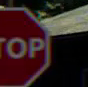Stop: (0, 0, 52, 86)
